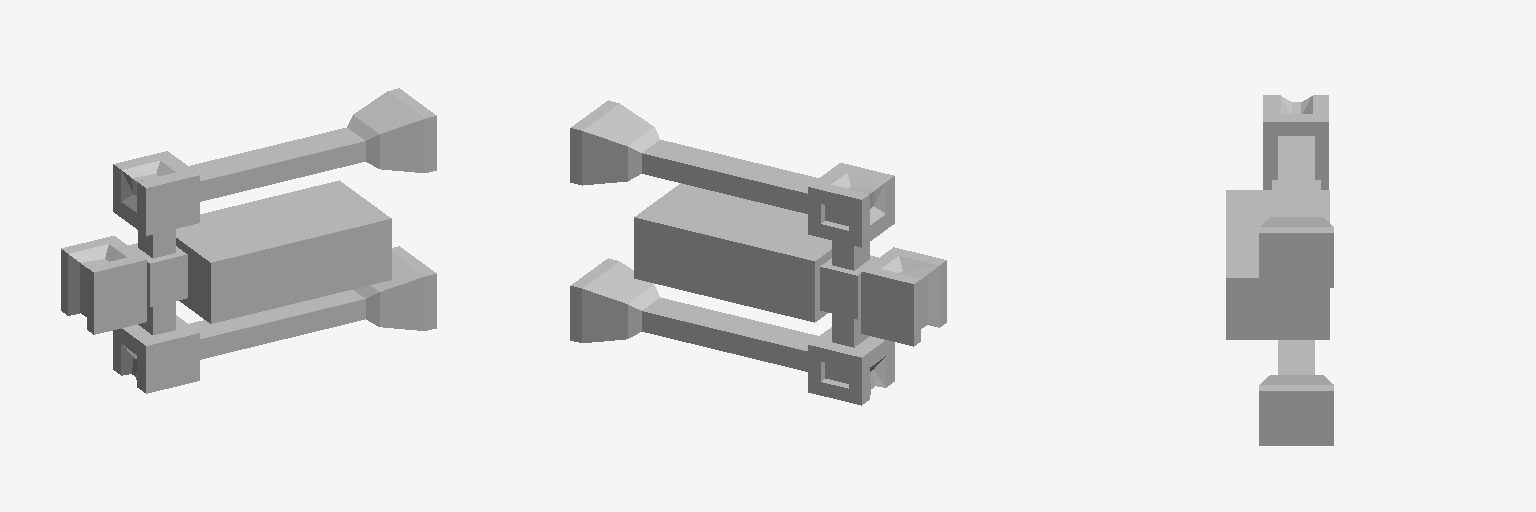
File: SpusShip.obj
3 renders of one model, left to right at view 1: azimuth 30°, elevation 25°; view 2: azimuth 150°, elevation 25°; view 3: azimuth 270°, elevation 25°, orthographic.
Visible parts, largest first — view 1: Cube; view 2: Cube; view 3: Cube.
Part boxes in pixels (x1,y1,x2,y2): Cube: (61,88,436,393); Cube: (570,100,946,405); Cube: (1226,95,1333,445).
Size of the model in its own units: 19.09 by 11.37 by 5.25.